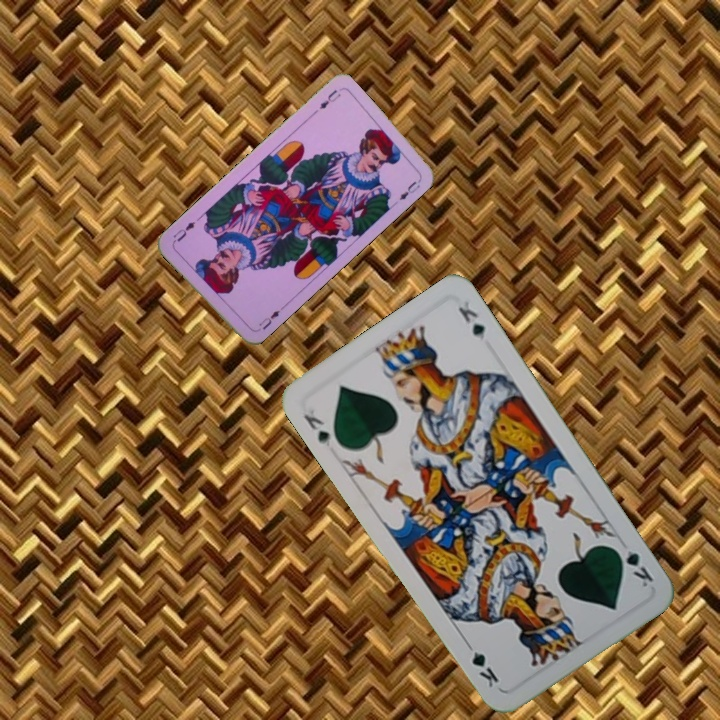EU: (252, 303, 286, 334), (315, 85, 343, 112)
GK: (610, 542, 656, 590), (299, 404, 333, 450)
